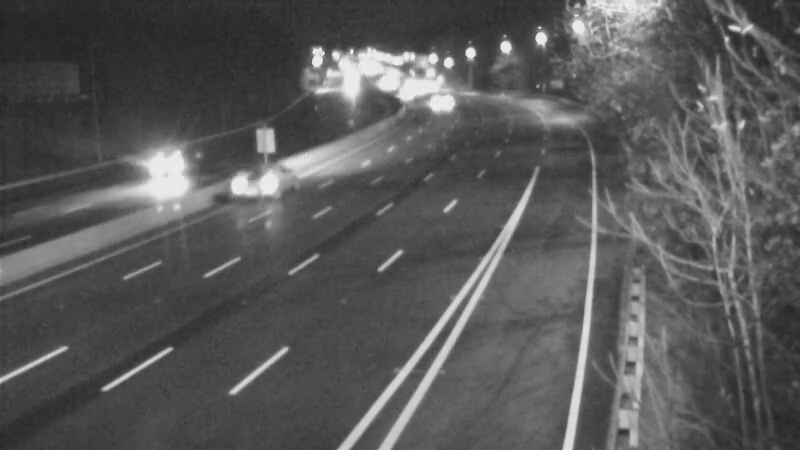vehicle: (215, 142, 295, 222), (120, 130, 200, 210), (419, 76, 469, 126)
